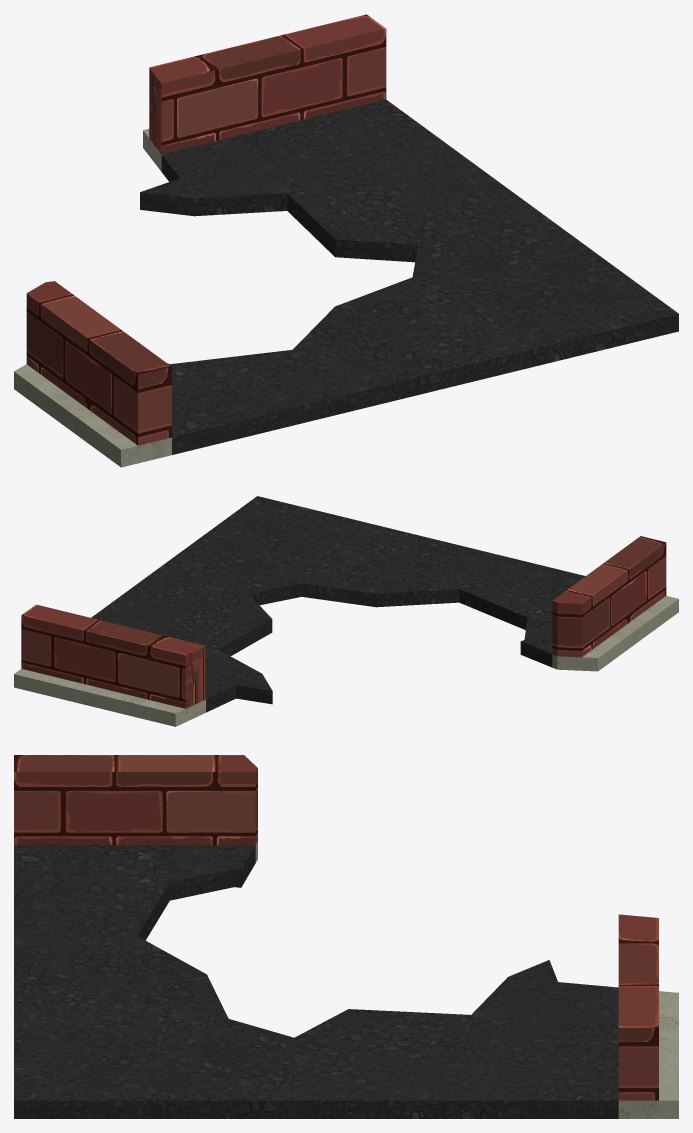
File: roof02_corner_destroyed02.fbx
3 views of the same model, one above another, from view 1: azimuth 30°, elevation 25°; view 2: azimuth 150°, elevation 25°; view 3: azimuth 270°, elevation 25° (orthographic). The views are drawn at different scales.
Parts seen in each view (by area): view 1: roof02_corner_destroyed02; view 2: roof02_corner_destroyed02; view 3: roof02_corner_destroyed02.
Part boxes in pixels (box(x1,y1,x2,y2)): roof02_corner_destroyed02: box(14, 14, 678, 467); roof02_corner_destroyed02: box(14, 496, 678, 726); roof02_corner_destroyed02: box(14, 755, 678, 1118).
Bounding box in the file's own units: 330 × 50 × 330.
